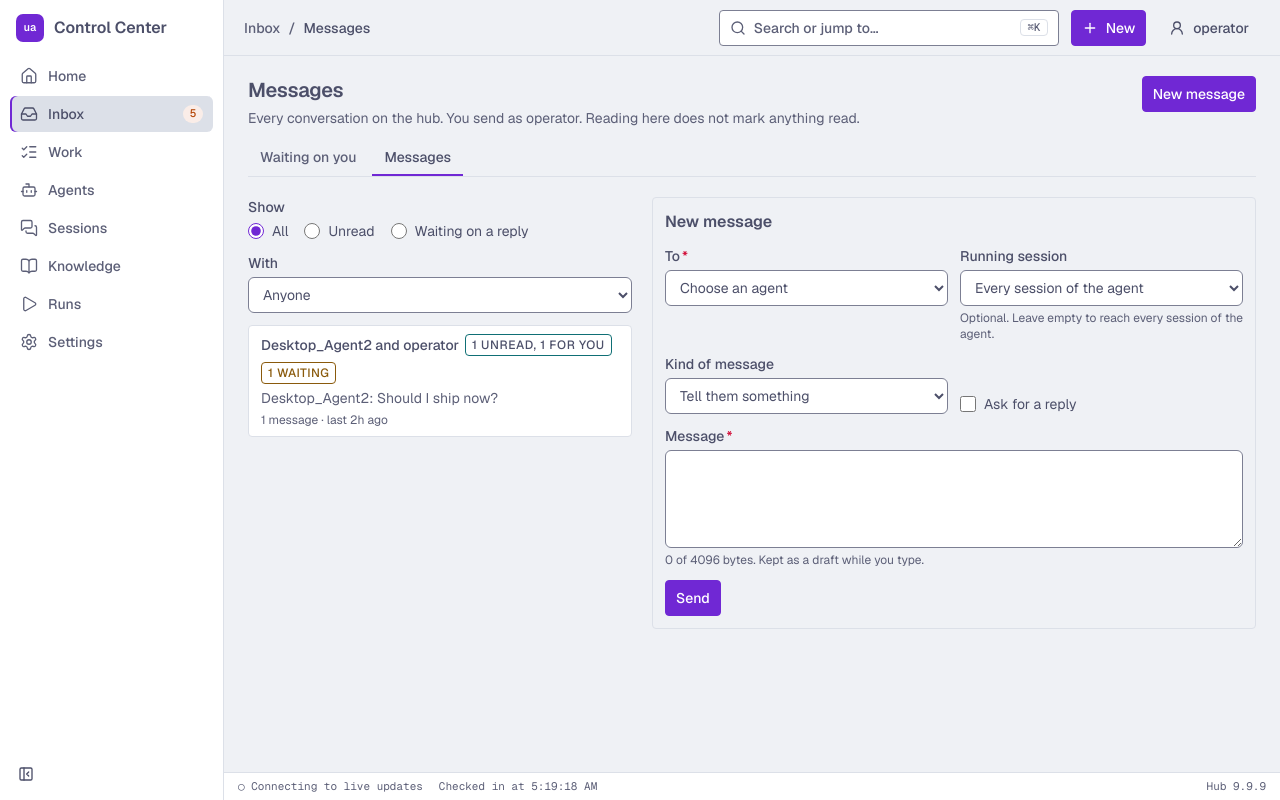
Test: Messages › a send that settles after more typing does not move to its conversation or drop the newer text (review 2.6)
Select "Desktop_Agent2" in the dropdown labelled "To*": point(806, 288) [665,270,948,306]
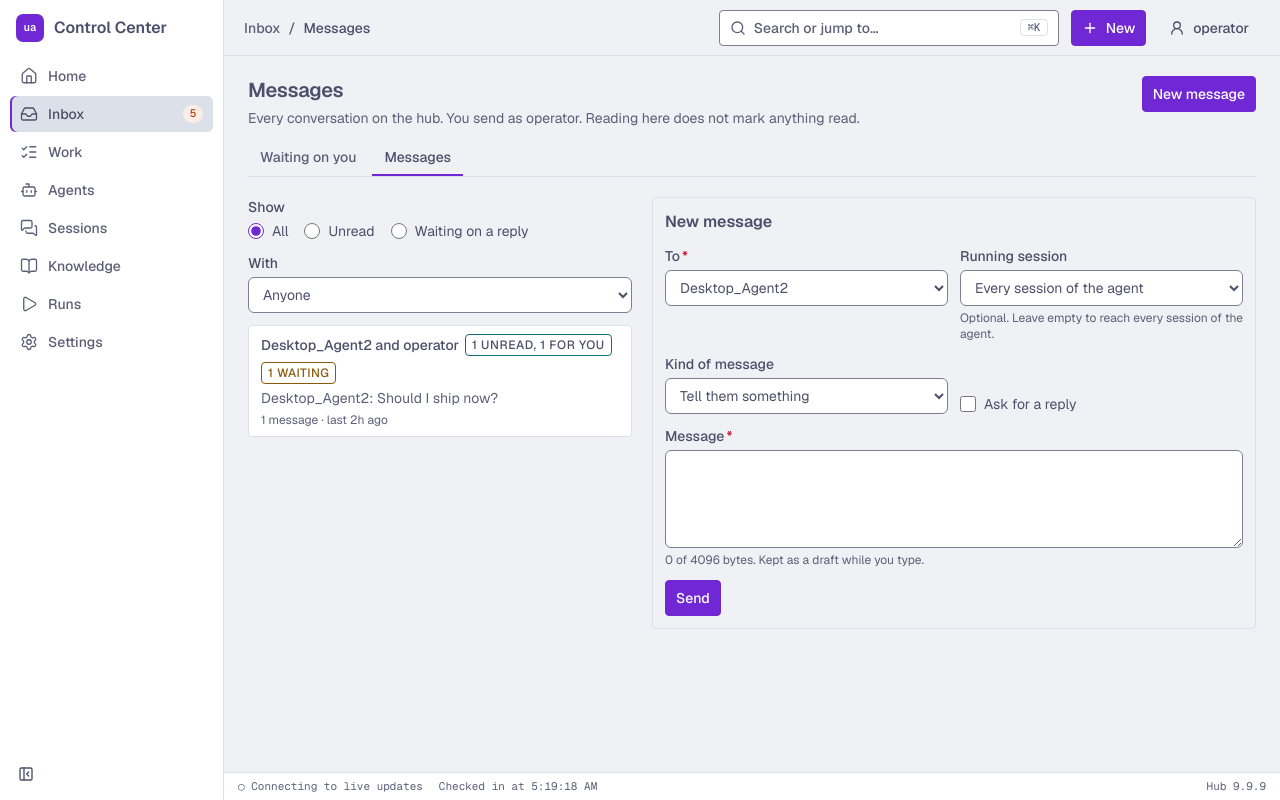
In the text box labelled "Message*": point(954, 499) [665,450,1243,548], type "First version."
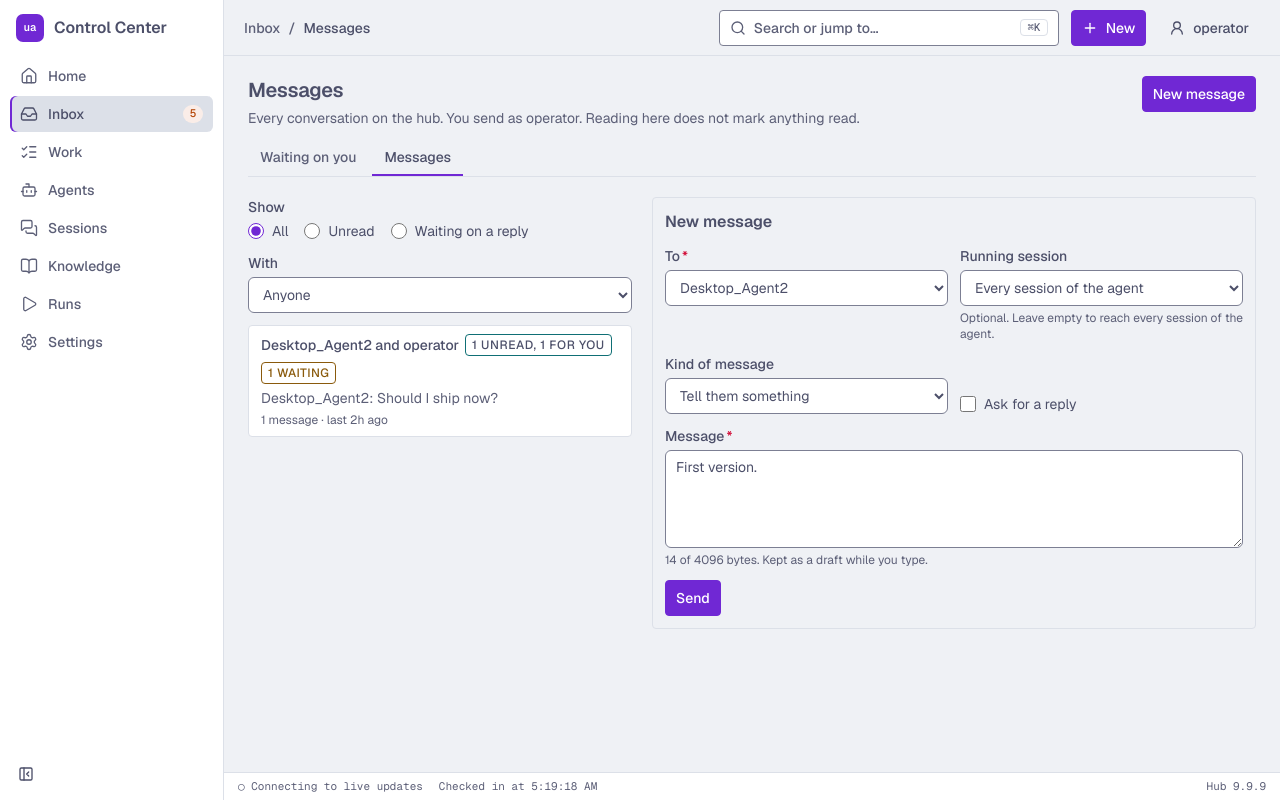
Click the button "Send": point(693, 598) [665,580,721,616]
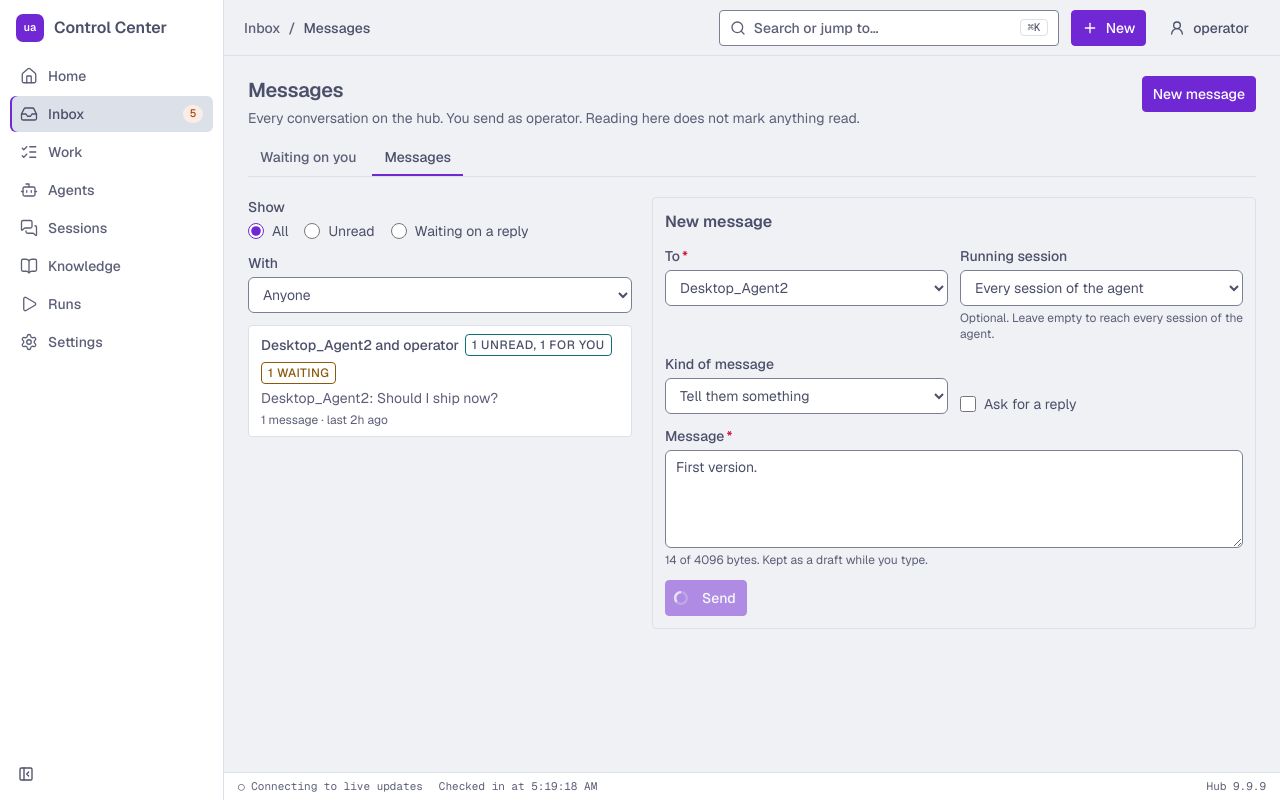
Replace the text in the text box labelled "Message*" with "Second message, still typing": point(954, 499) [665,450,1243,548]
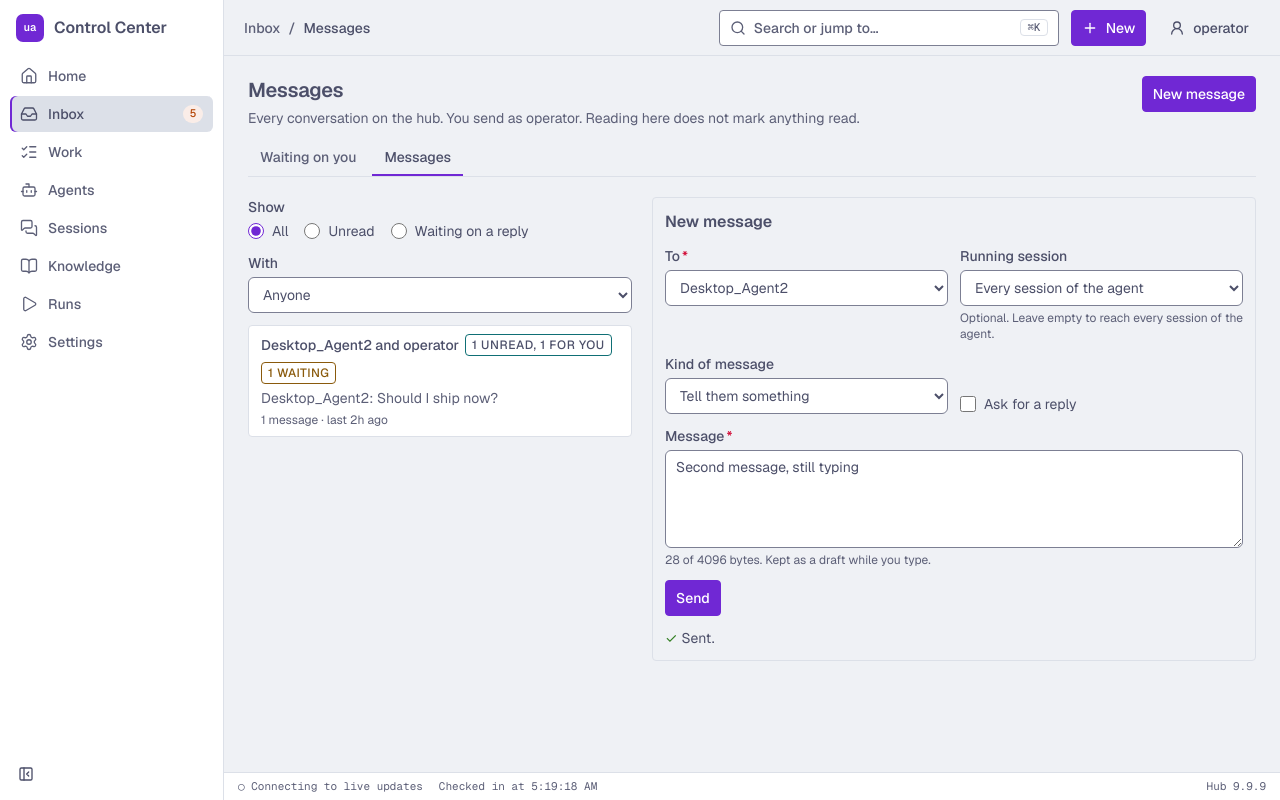
expect the form "New message" shows "Sent.": met, box [681,629,714,647]
